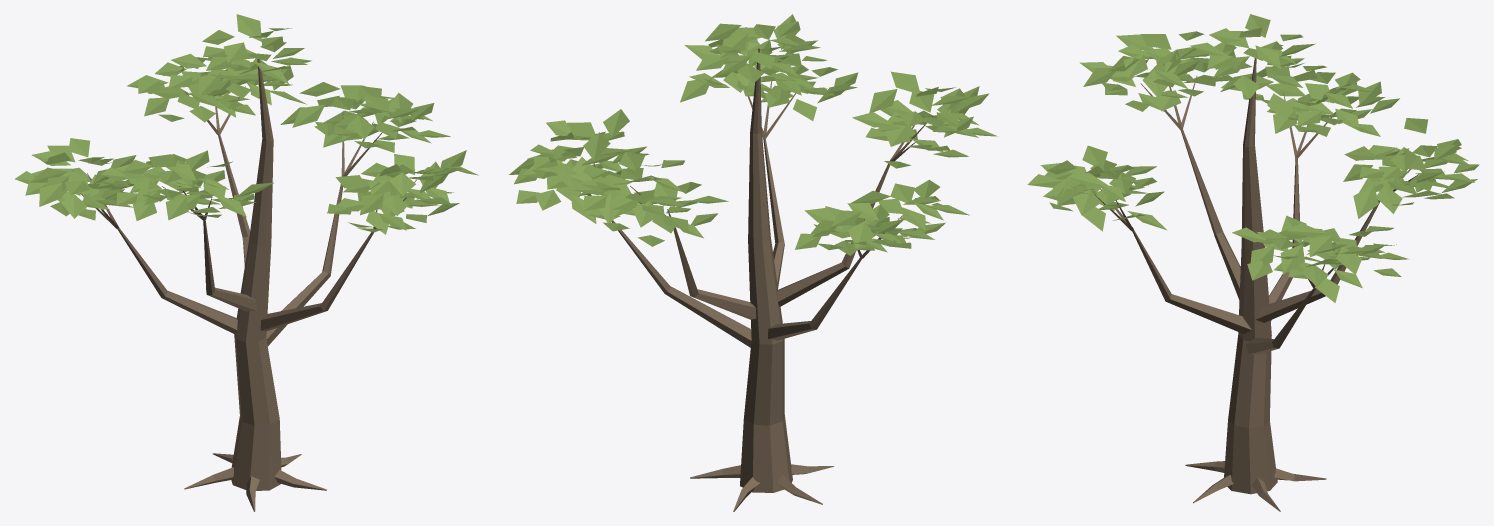
File: oak-sapling.glb
The picture shows the model from 3 angles, left to right: view 1: azimuth 30°, elevation 25°; view 2: azimuth 150°, elevation 25°; view 3: azimuth 270°, elevation 25°; orthographic projection. The views are drawn at different scales.
Parts seen in each view (by area): view 1: understory_oak-sapling_LOD0; view 2: understory_oak-sapling_LOD0; view 3: understory_oak-sapling_LOD0.
Boxes of the visible parts, box(x1,y1,x2,y2) form: understory_oak-sapling_LOD0: box(15, 14, 478, 511); understory_oak-sapling_LOD0: box(509, 14, 998, 511); understory_oak-sapling_LOD0: box(1027, 14, 1479, 511).
Size of the model in its own units: 2.27 by 2.3 by 2.1.
